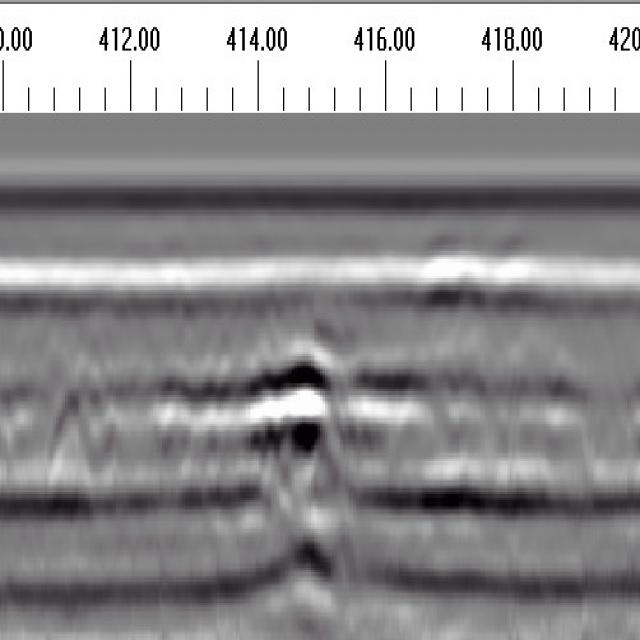loose: (154, 351, 434, 505)
